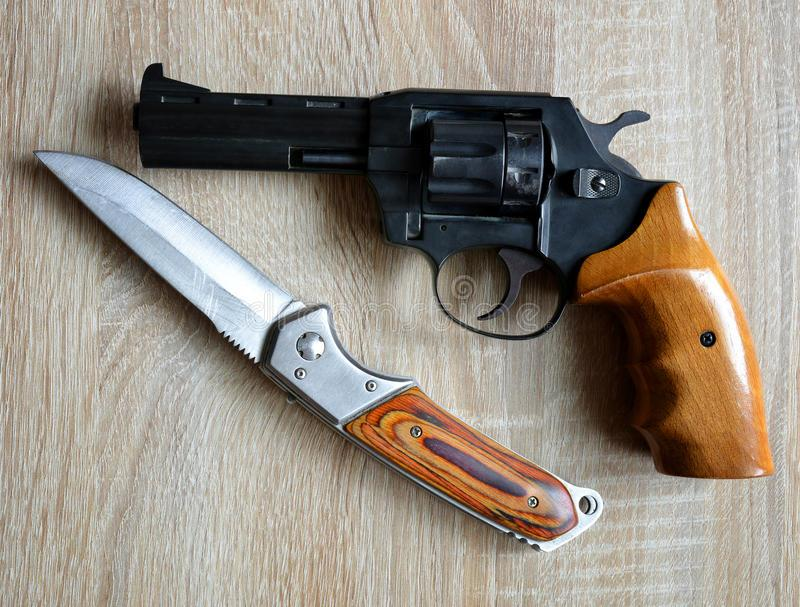weapon: (125, 58, 778, 482), (32, 147, 607, 559)
